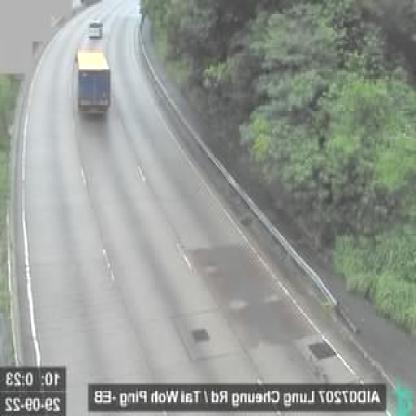Car: (88, 17, 104, 38)
Truck: (74, 47, 114, 125)
